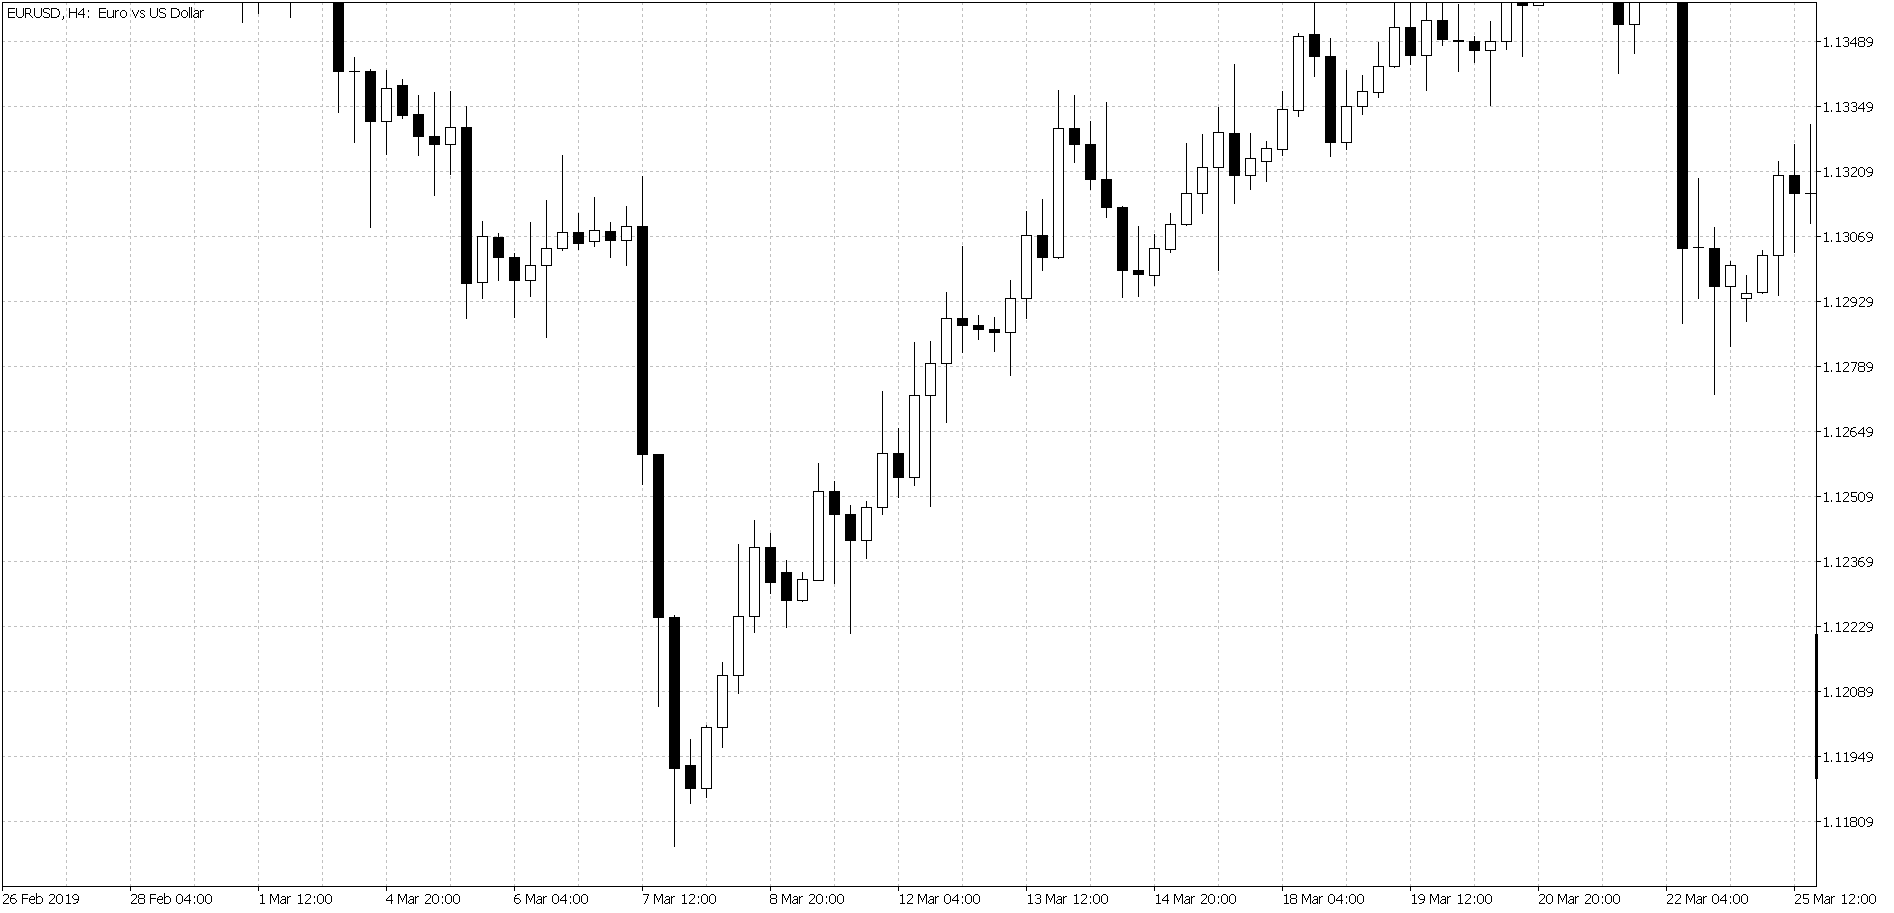bullishEngulfing: (682, 721, 711, 814)
morningStar: (1115, 188, 1162, 298)
